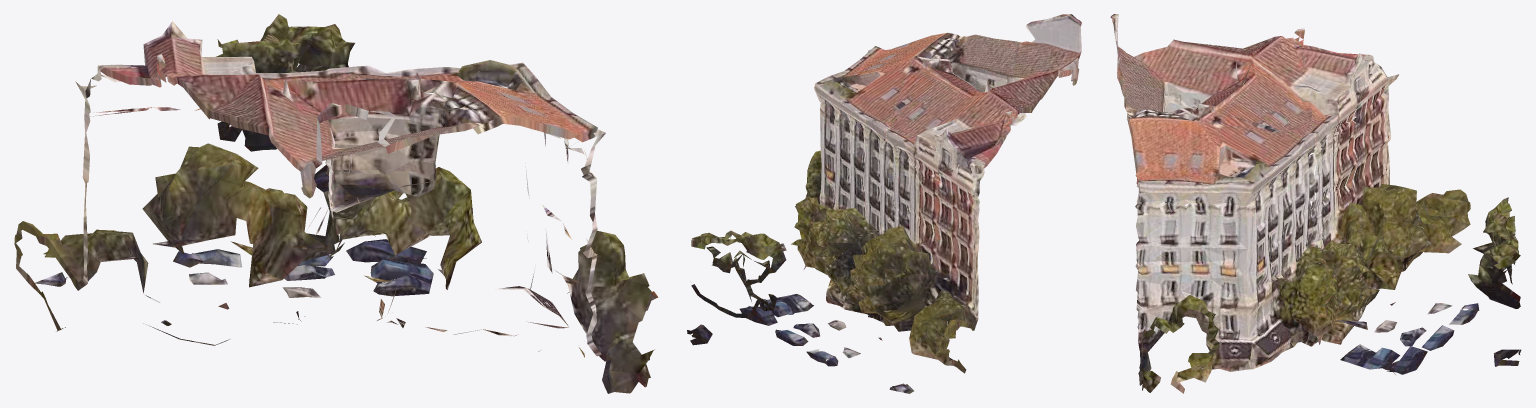
3 renders of one model, left to right at view 1: azimuth 30°, elevation 25°; view 2: azimuth 150°, elevation 25°; view 3: azimuth 270°, elevation 25°, orthographic. The views are drawn at different scales.
Parts seen in each view (by area): view 1: Mesh_0; view 2: Mesh_0; view 3: Mesh_0.
Part boxes in pixels (left/top/right/bottom): Mesh_0: left=14, top=14, right=658, bottom=393; Mesh_0: left=687, top=14, right=1081, bottom=393; Mesh_0: left=1110, top=14, right=1521, bottom=393.
Bounding box in the file's own units: 33.4 × 29.51 × 41.49.
Materials: 2 (2 with a texture image).
